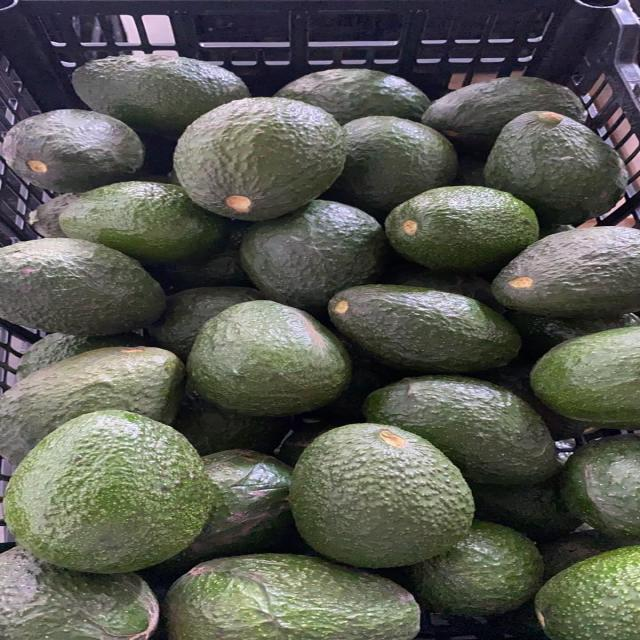avocado: (4, 410, 213, 573), (290, 424, 472, 567), (166, 554, 419, 639), (0, 346, 183, 462), (364, 376, 559, 484), (175, 98, 345, 220), (188, 300, 351, 415), (329, 285, 520, 372), (240, 200, 387, 312), (485, 111, 627, 224), (0, 238, 165, 335), (163, 450, 293, 569), (0, 547, 159, 639), (72, 55, 249, 135), (60, 181, 227, 263), (492, 226, 639, 317), (408, 520, 543, 616), (385, 186, 538, 270), (336, 116, 456, 216), (3, 109, 143, 192), (423, 77, 586, 148), (531, 327, 639, 425), (535, 546, 640, 640), (480, 360, 589, 440), (277, 69, 430, 124), (150, 287, 263, 361), (562, 435, 639, 536), (471, 476, 583, 541), (320, 335, 398, 425), (172, 398, 291, 455), (505, 311, 639, 358), (163, 221, 252, 290), (383, 263, 503, 313), (17, 333, 147, 377), (539, 530, 625, 580), (29, 193, 76, 237), (136, 132, 176, 183), (277, 428, 328, 466), (453, 154, 486, 186), (540, 224, 575, 238)
